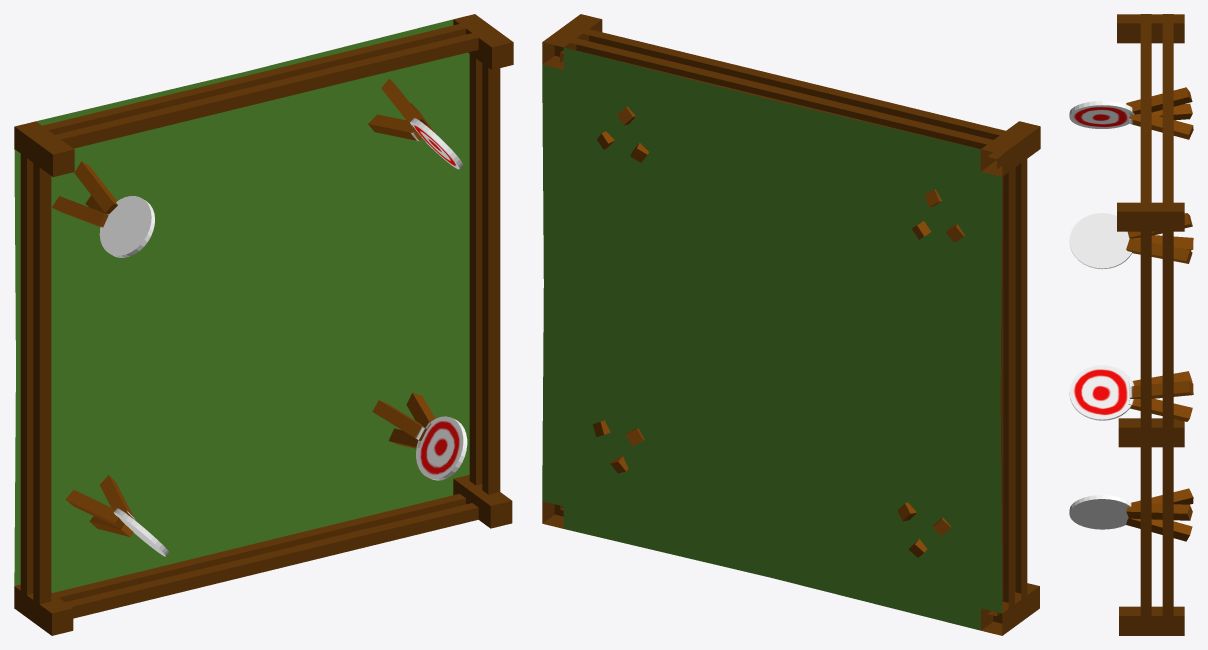
File: Лагерь4Origin.fbx
3 views of the same model, side by side, from view 1: azimuth 30°, elevation 25°; view 2: azimuth 150°, elevation 25°; view 3: azimuth 270°, elevation 25° (orthographic). The views are drawn at different scales.
Visible parts, largest first — view 1: Лагерь4; view 2: Лагерь4; view 3: Лагерь4.
Boxes of the visible parts, left/top/right/bottom form: Лагерь4: left=14, top=14, right=513, bottom=635; Лагерь4: left=542, top=14, right=1040, bottom=635; Лагерь4: left=1069, top=14, right=1193, bottom=635.
Bounding box in the file's own units: 2 × 2 × 0.5303.
